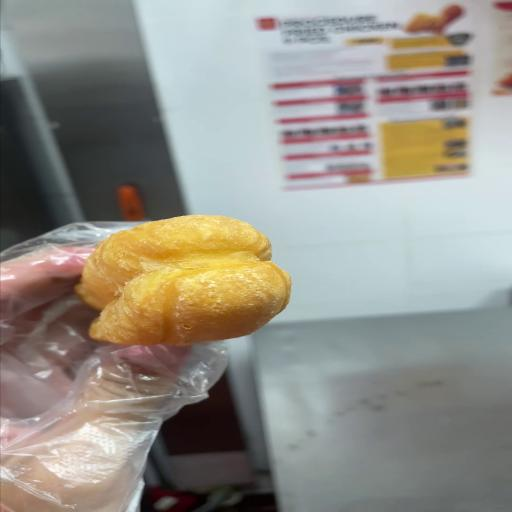brand_golden_good: (76, 215, 291, 345)
